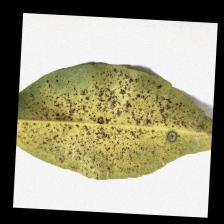canker: (50, 78, 153, 159)
